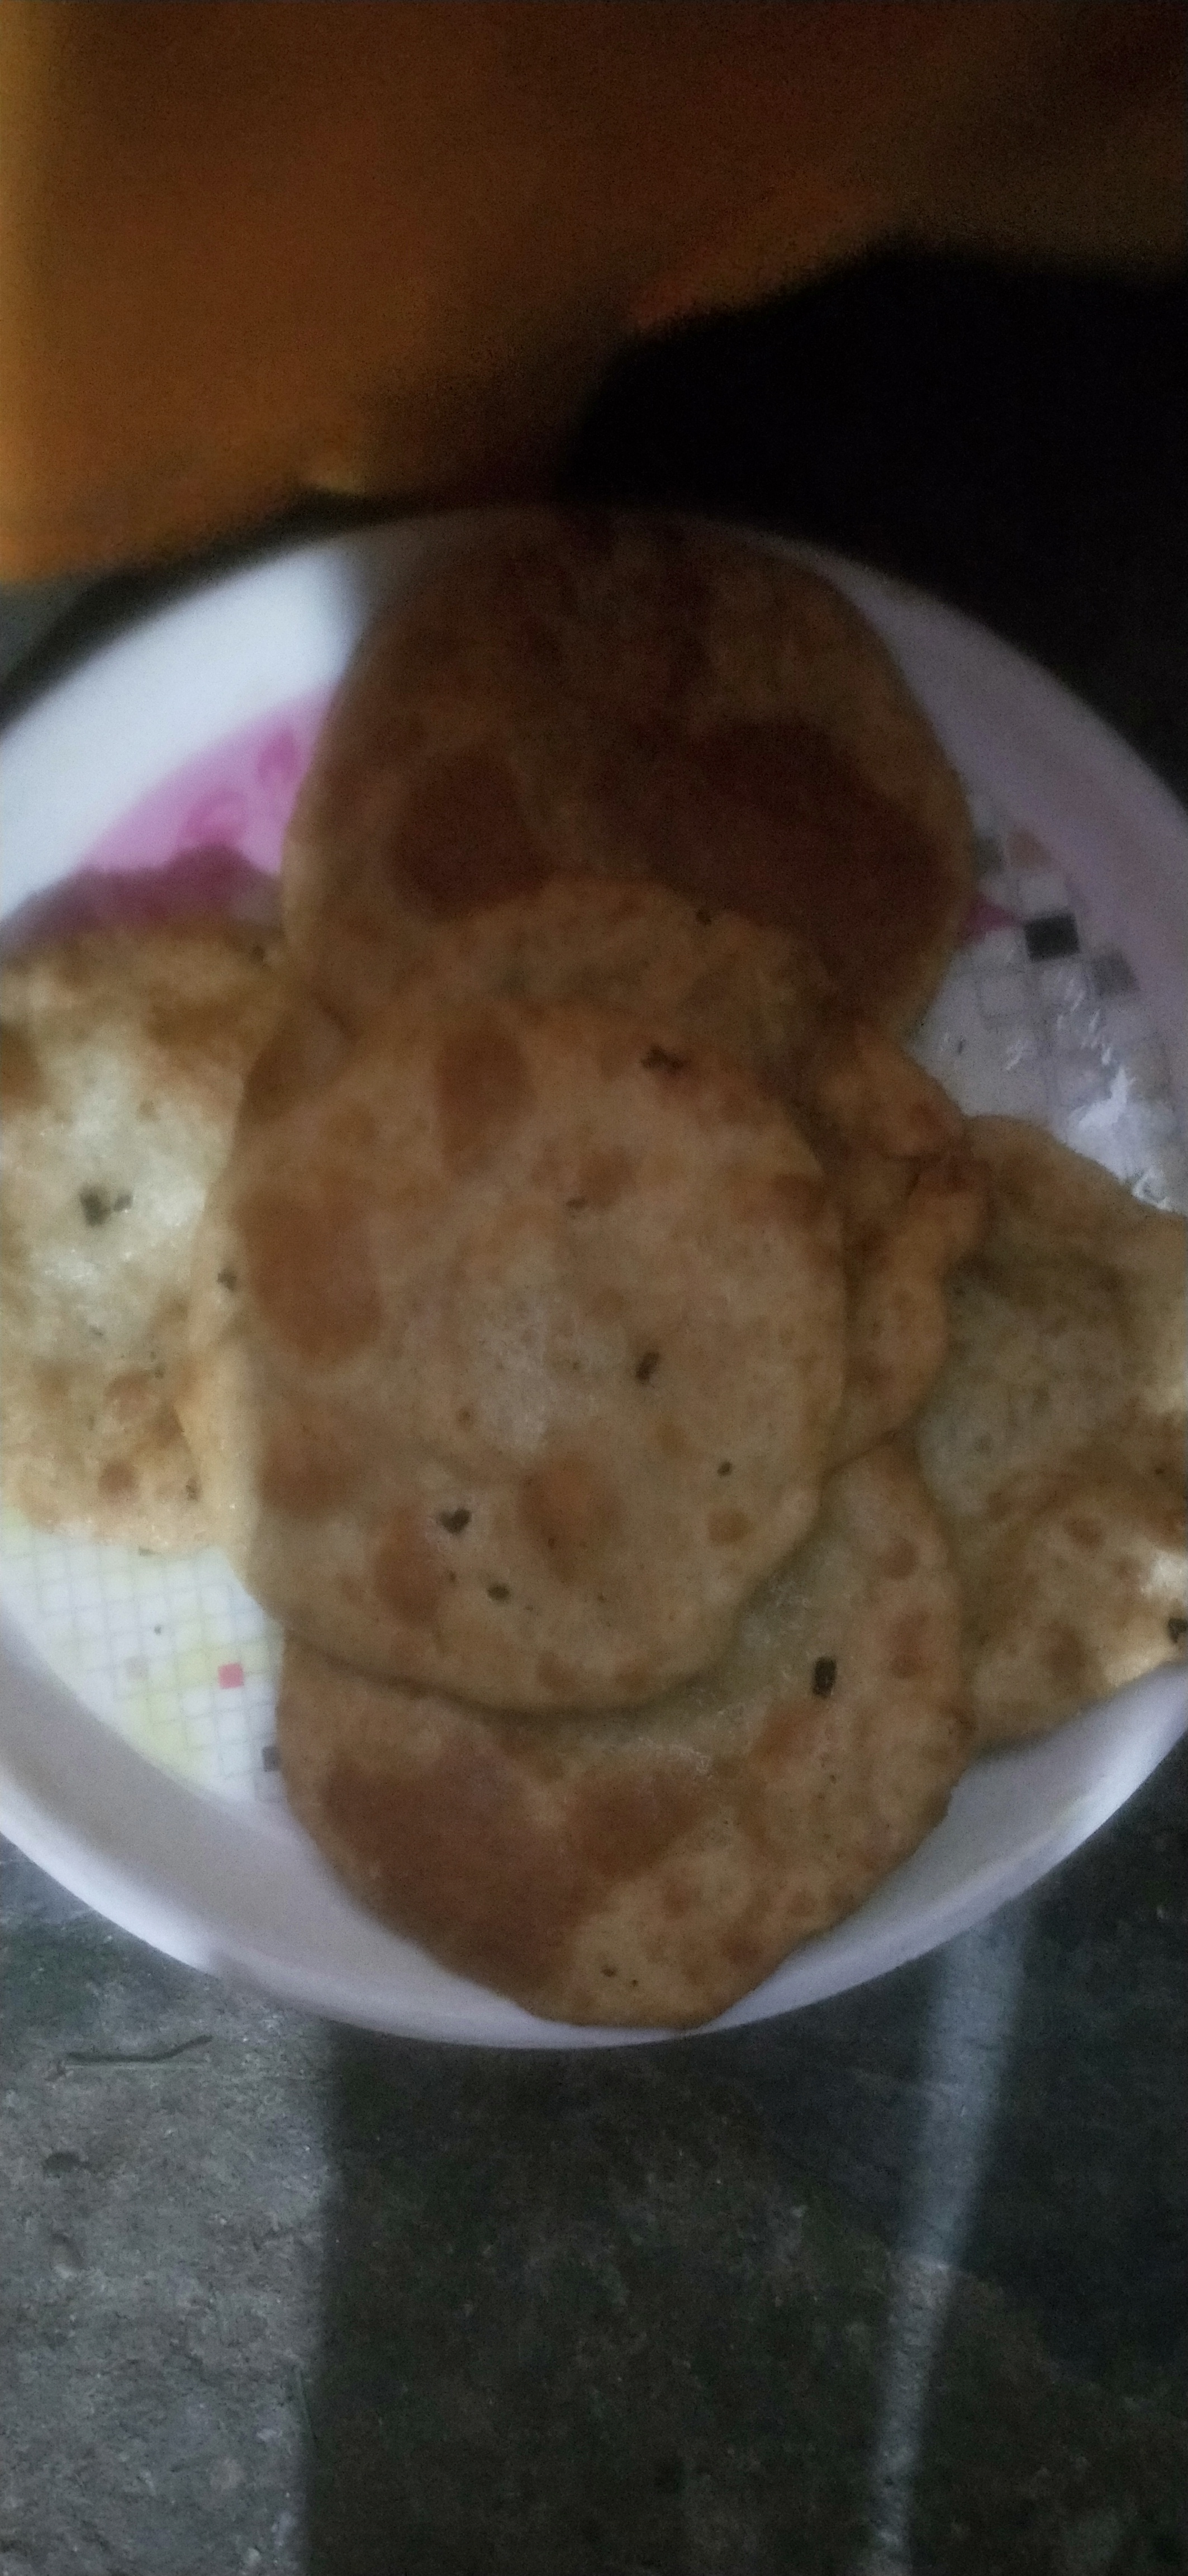food: (0, 481, 1185, 2042)
